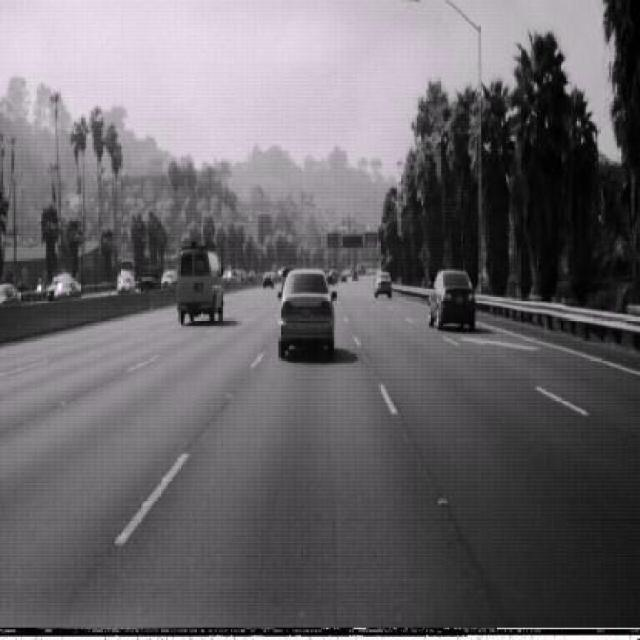laneEnds: (417, 242, 432, 270)
